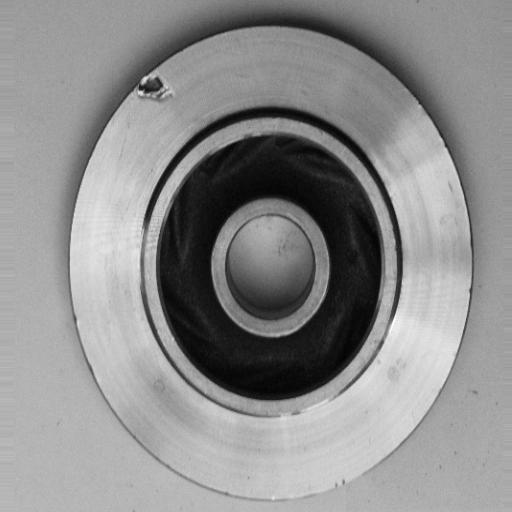crack: (122, 59, 186, 117)
scratch: (267, 380, 350, 433)
unpolished_casting: (68, 24, 474, 504)
